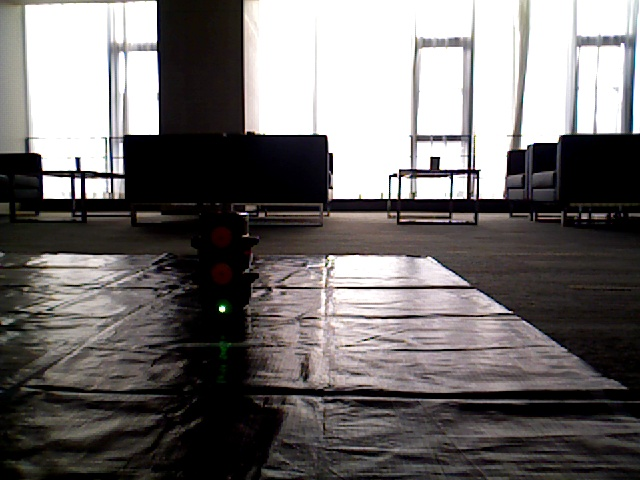green: (209, 212, 240, 315)
